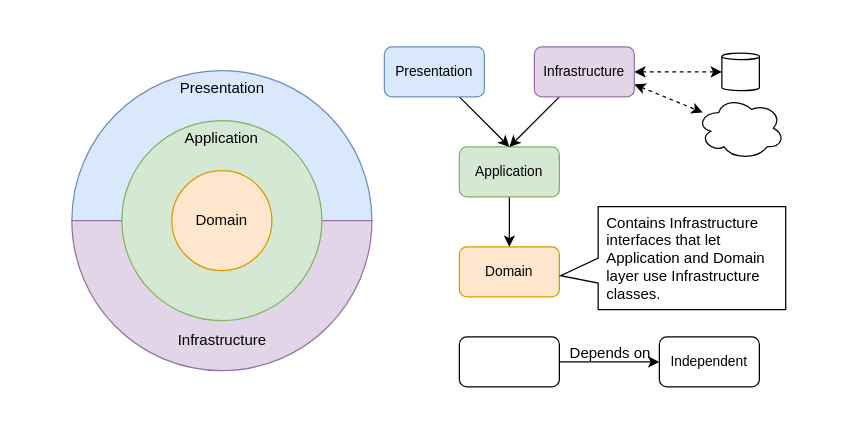
Some shapes in this 843 by 443 pixel diagram are drawn without their labels. Here are the shapes that lost their labels. From the top down, the centre of each, then its label:
At point 740,71: "DB".
At point 740,127: "External Services".
At point 508,361: "Dependent".
